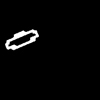chain: (5, 30, 38, 49)
